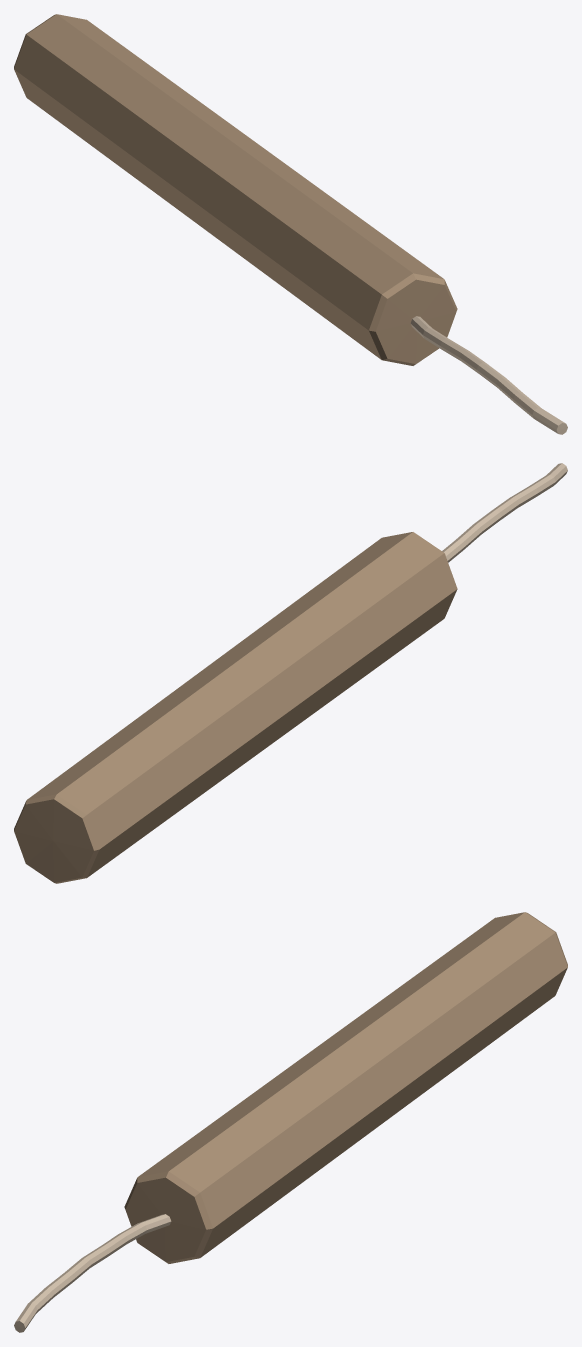
The model's file is SM_Fireuorks_02.fbx.
3 renders of one model, top to bottom at view 1: azimuth 30°, elevation 25°; view 2: azimuth 150°, elevation 25°; view 3: azimuth 330°, elevation 25°, orthographic.
Parts seen in each view (by area): view 1: SM_Fireuorks_02; view 2: SM_Fireuorks_02; view 3: SM_Fireuorks_02.
Boxes of the visible parts, <box> form: SM_Fireuorks_02: <box>14,14,567,434</box>; SM_Fireuorks_02: <box>14,463,567,883</box>; SM_Fireuorks_02: <box>14,912,567,1332</box>.
Size of the model in its own units: 0.9122 by 0.9122 by 9.06.
Materials: 1 (1 with a texture image).
